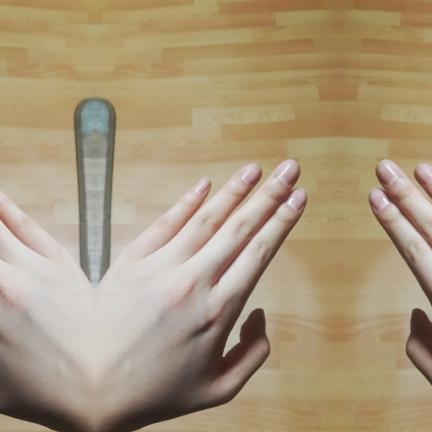Nail: (275, 159, 299, 186), (375, 159, 399, 186), (240, 163, 261, 185), (286, 188, 306, 210), (368, 188, 388, 210), (413, 163, 432, 185), (193, 177, 210, 194)
